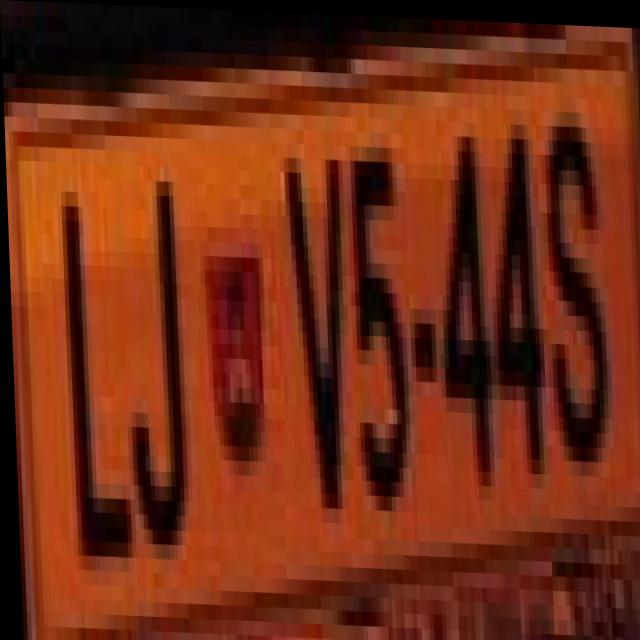4: (435, 117, 504, 497), (485, 118, 546, 484)
5: (335, 113, 422, 509)
L: (47, 190, 133, 586)
S: (543, 92, 612, 472)
V: (274, 140, 348, 536)
